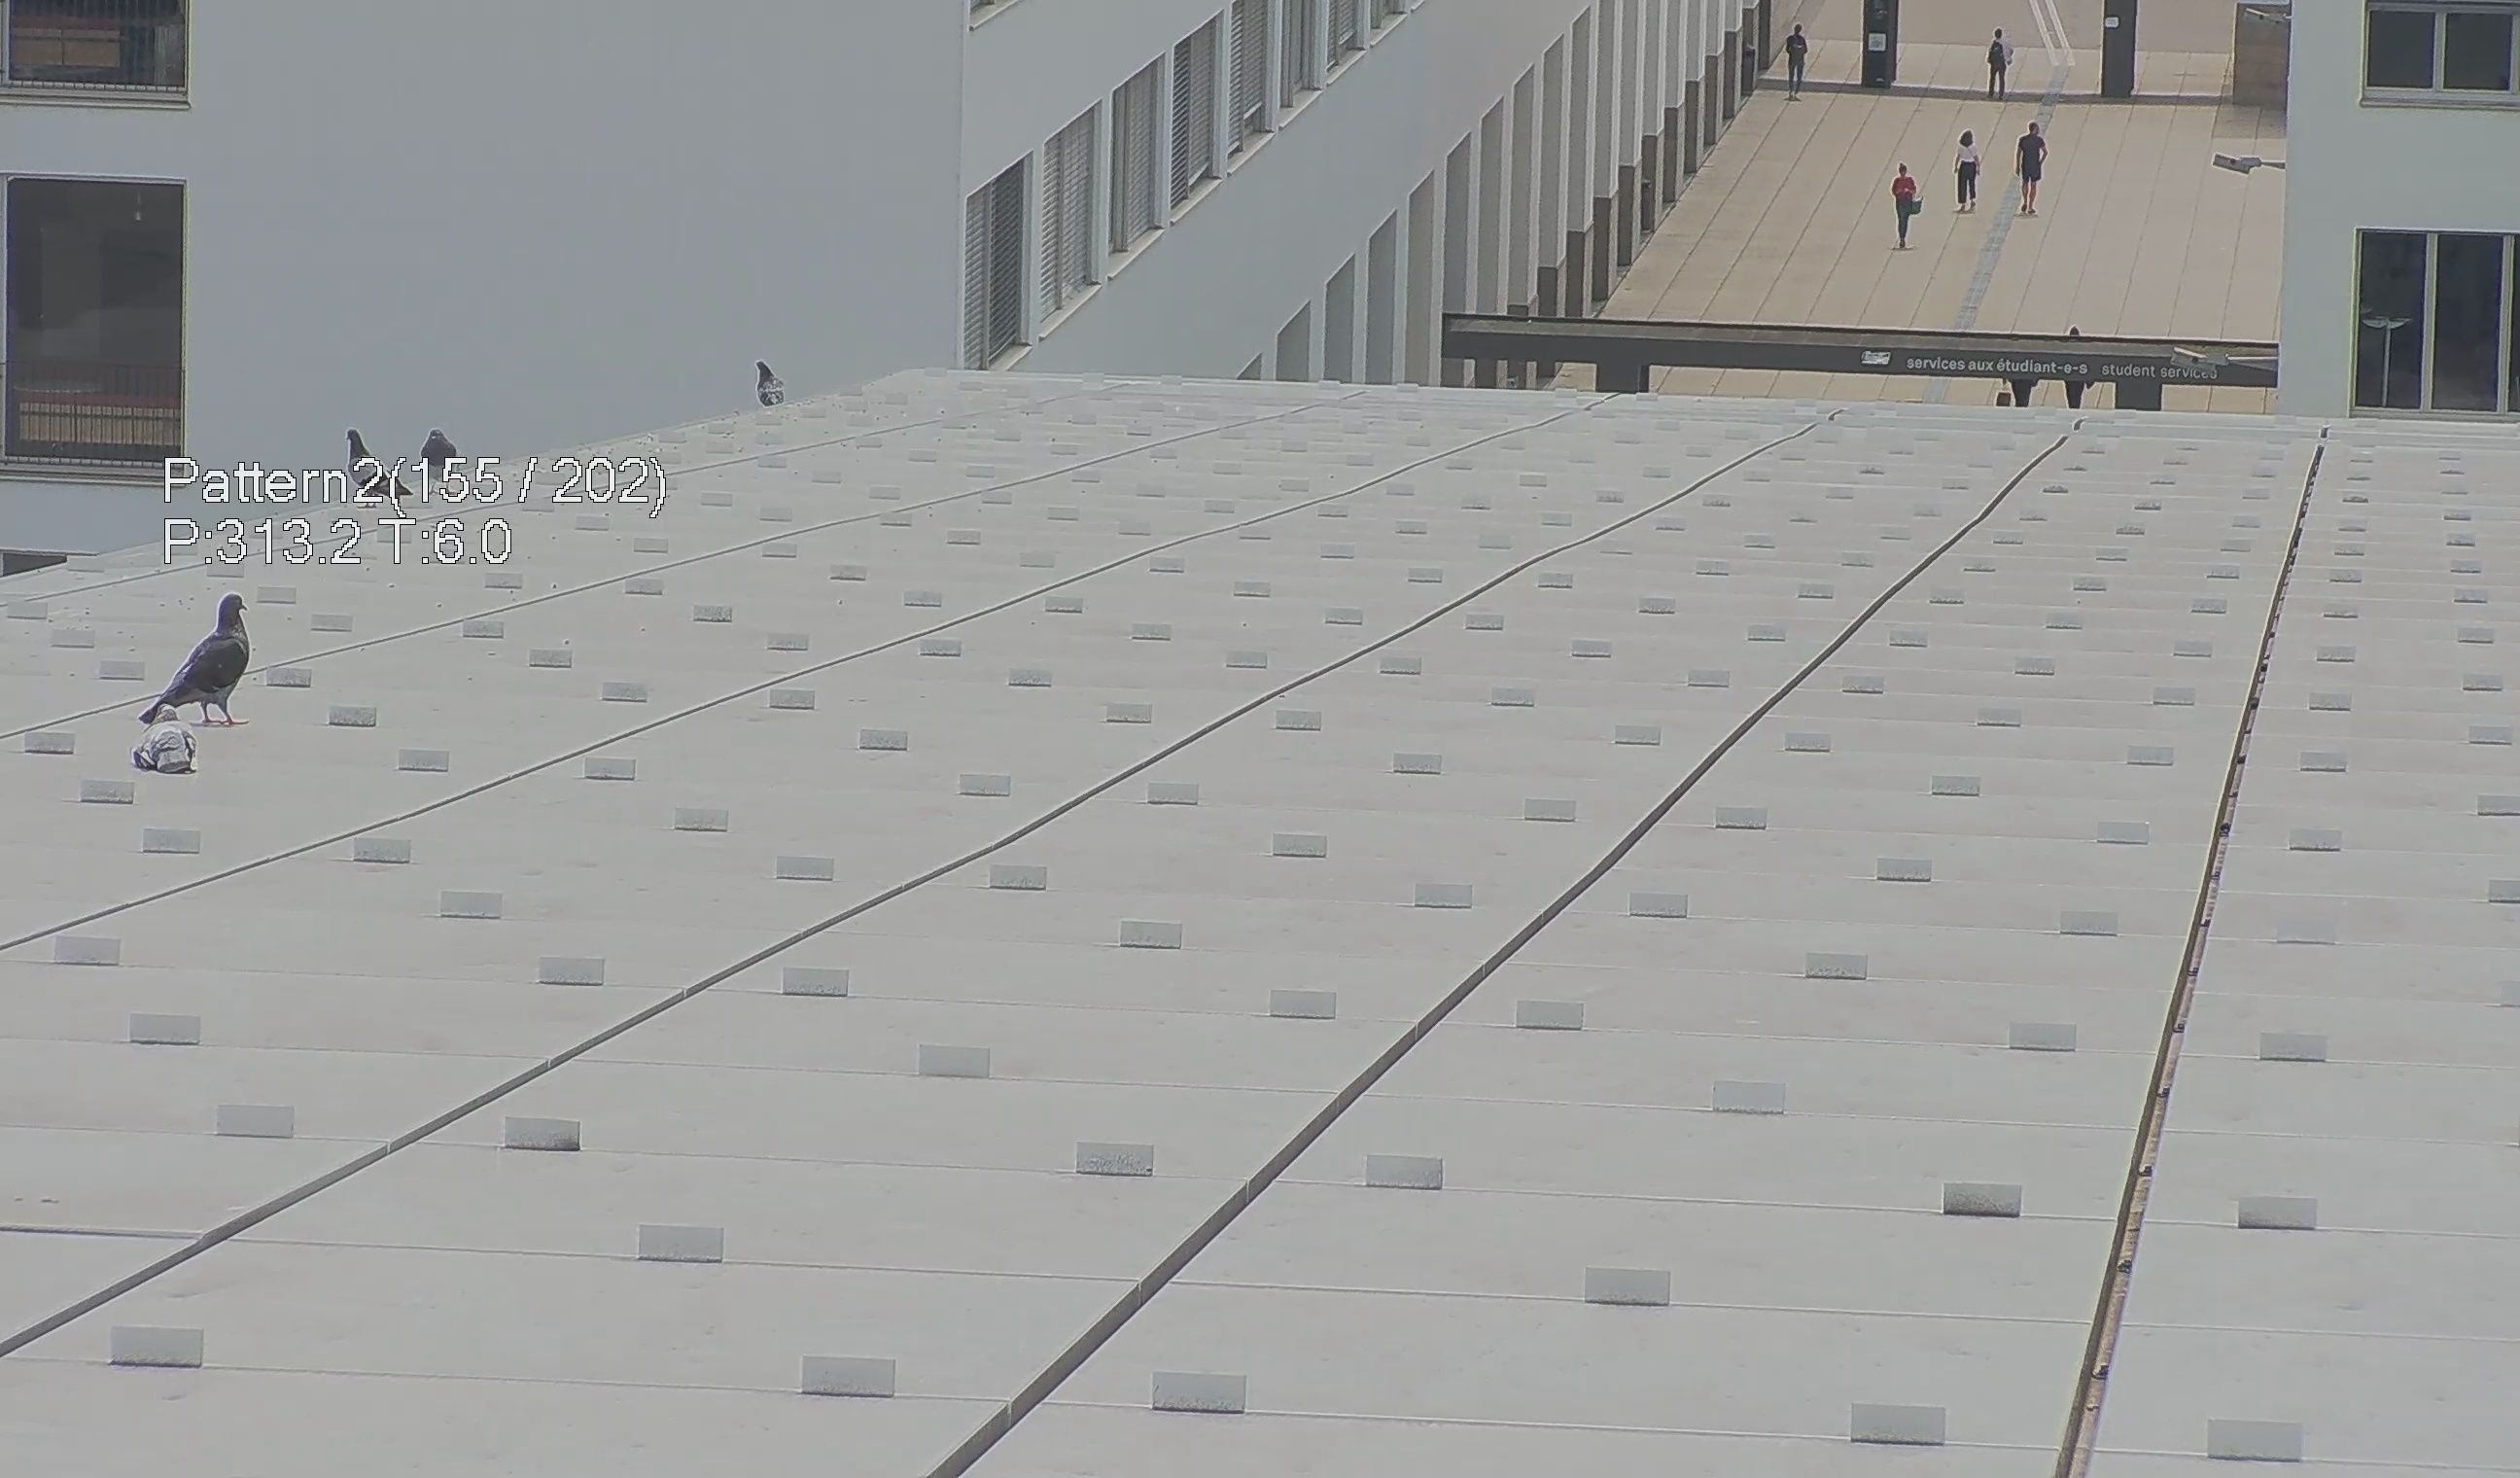Pigeon: (137, 582, 266, 744), (127, 700, 202, 783), (746, 359, 797, 419), (417, 426, 462, 487), (339, 417, 380, 463)
